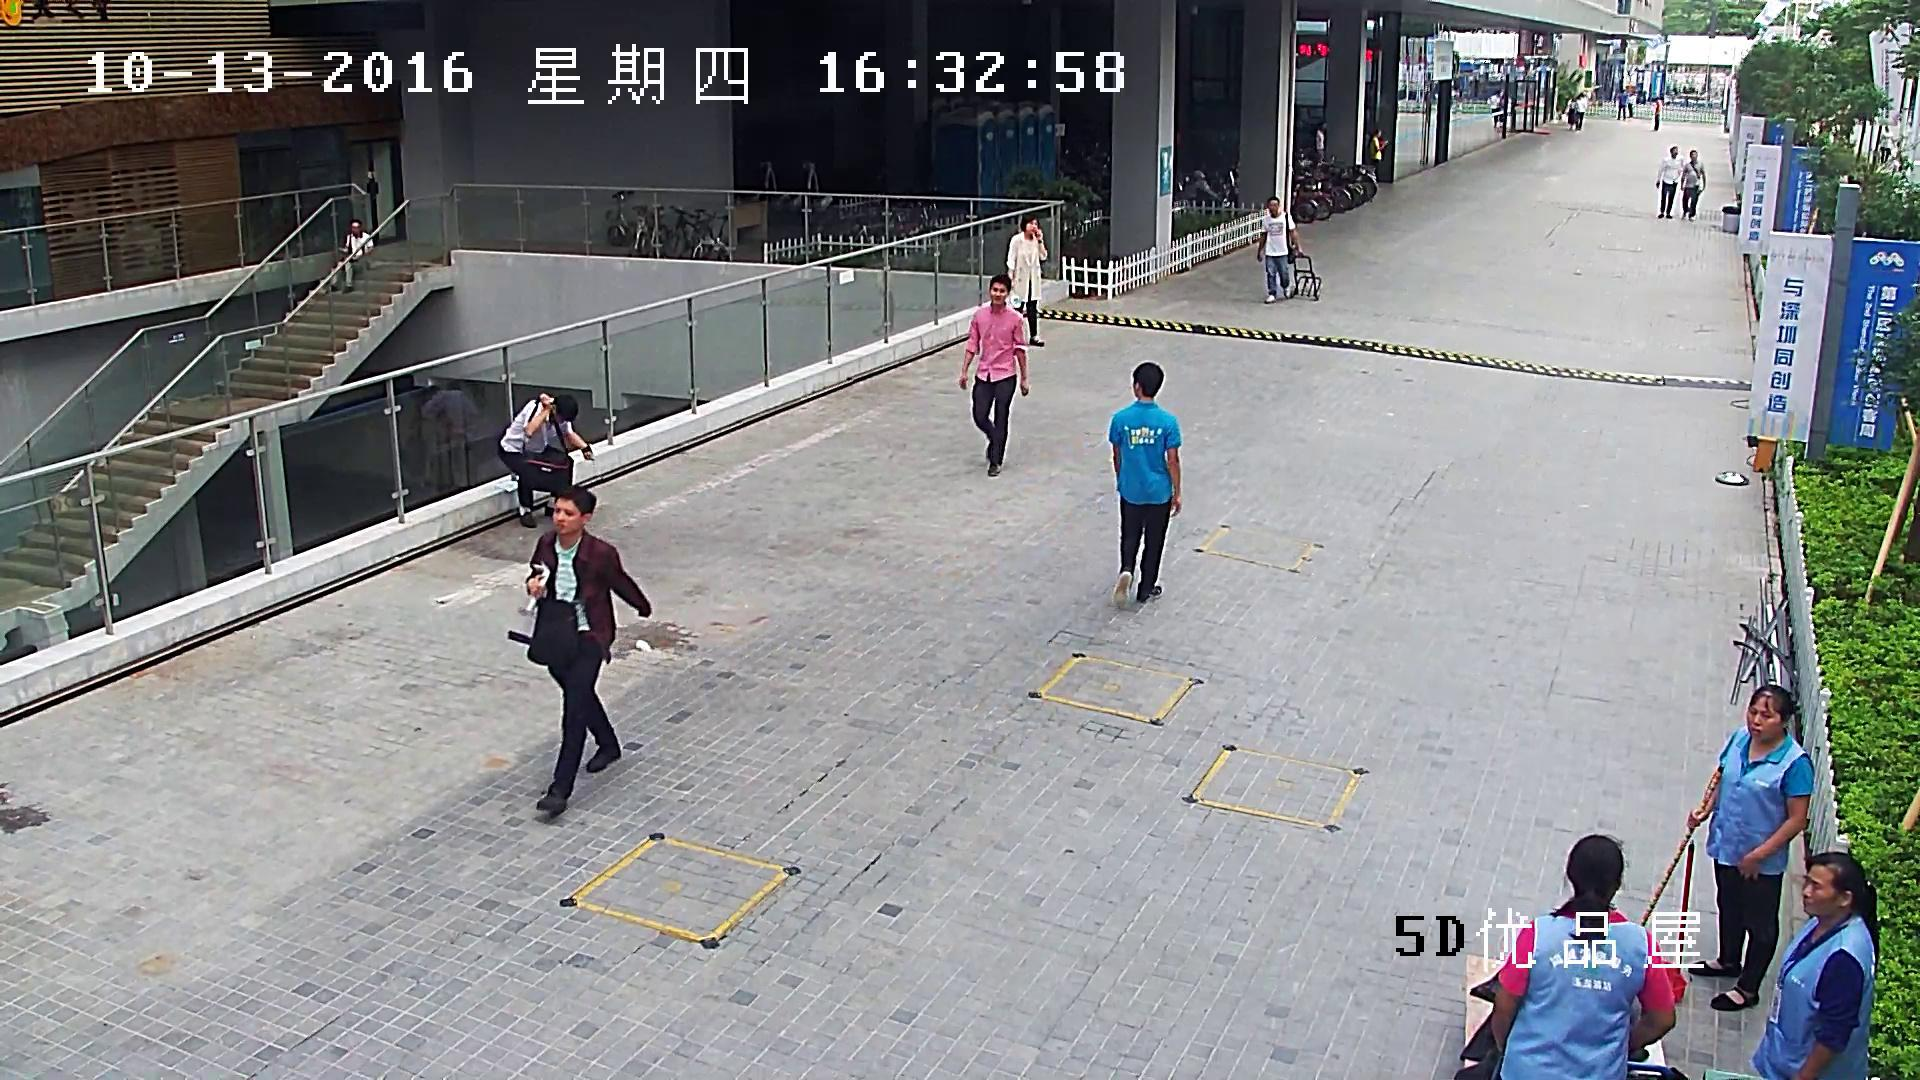person: (1453, 834, 1686, 1080), (1641, 685, 1816, 1009), (509, 485, 651, 810), (1492, 834, 1675, 1080), (1686, 685, 1816, 1009), (1751, 851, 1879, 1080), (1107, 360, 1181, 601), (960, 274, 1029, 476), (496, 391, 594, 527), (407, 385, 480, 486), (1256, 195, 1321, 302), (1007, 213, 1047, 346), (1256, 195, 1302, 302), (329, 219, 373, 293), (1681, 149, 1706, 221), (1656, 146, 1681, 218), (1369, 128, 1388, 181), (1487, 91, 1504, 127), (1879, 125, 1895, 163), (1564, 98, 1579, 131), (1575, 91, 1587, 128), (1315, 122, 1324, 160), (1617, 90, 1626, 119), (1654, 97, 1662, 131), (1626, 92, 1635, 117)
